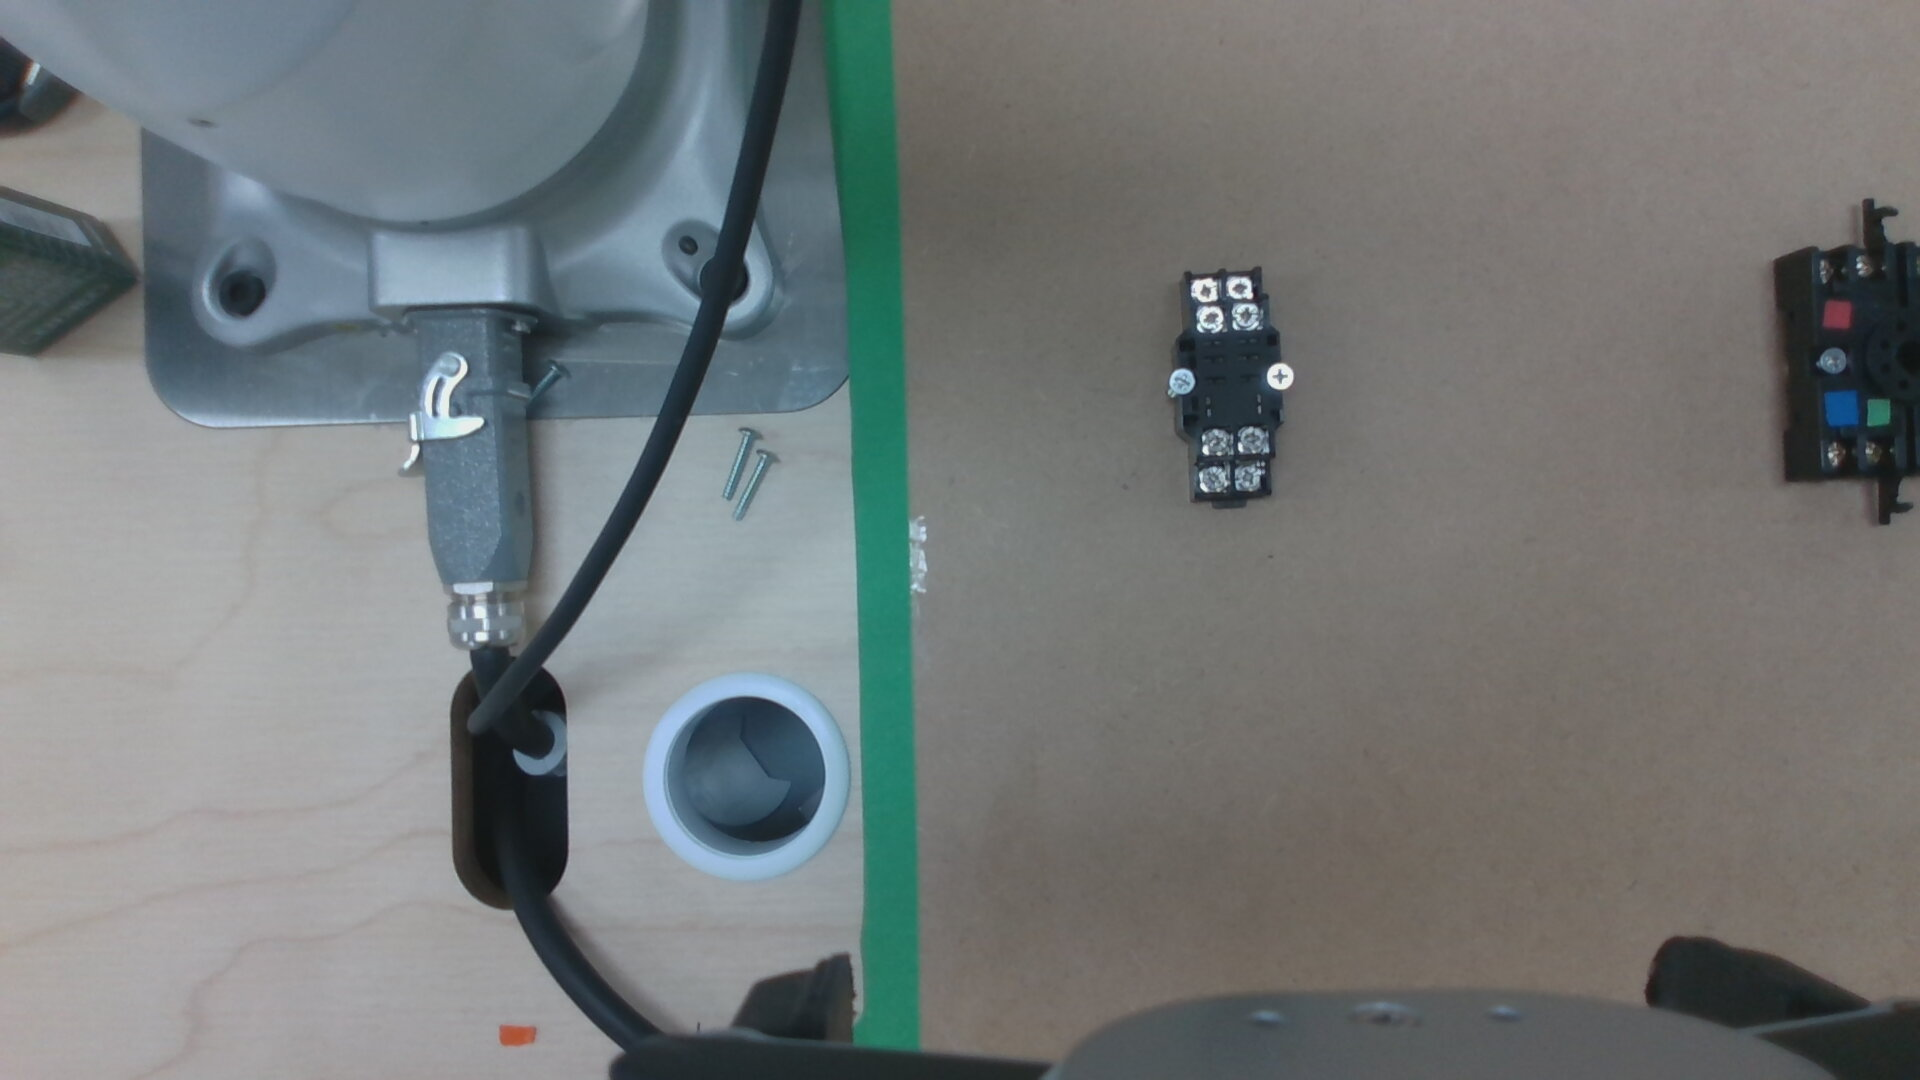relay 3: (1228, 278, 1251, 297)
relay 4: (1191, 281, 1218, 301)
relay 5: (1236, 464, 1263, 491)
relay 6: (1199, 463, 1226, 491)
relay 7: (1237, 429, 1266, 452)
relay 8: (1200, 430, 1230, 454)
